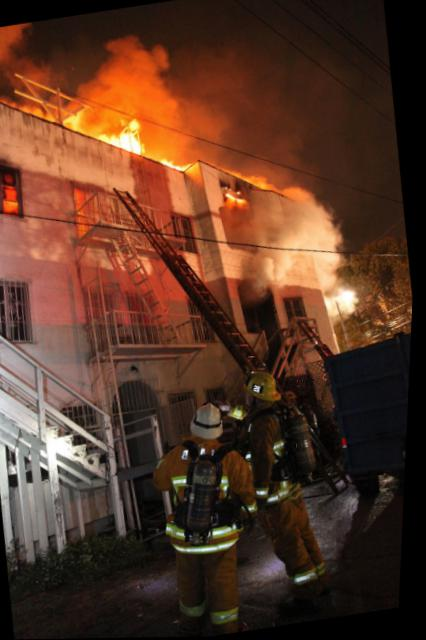fire: (75, 108, 194, 186), (219, 184, 254, 207)
